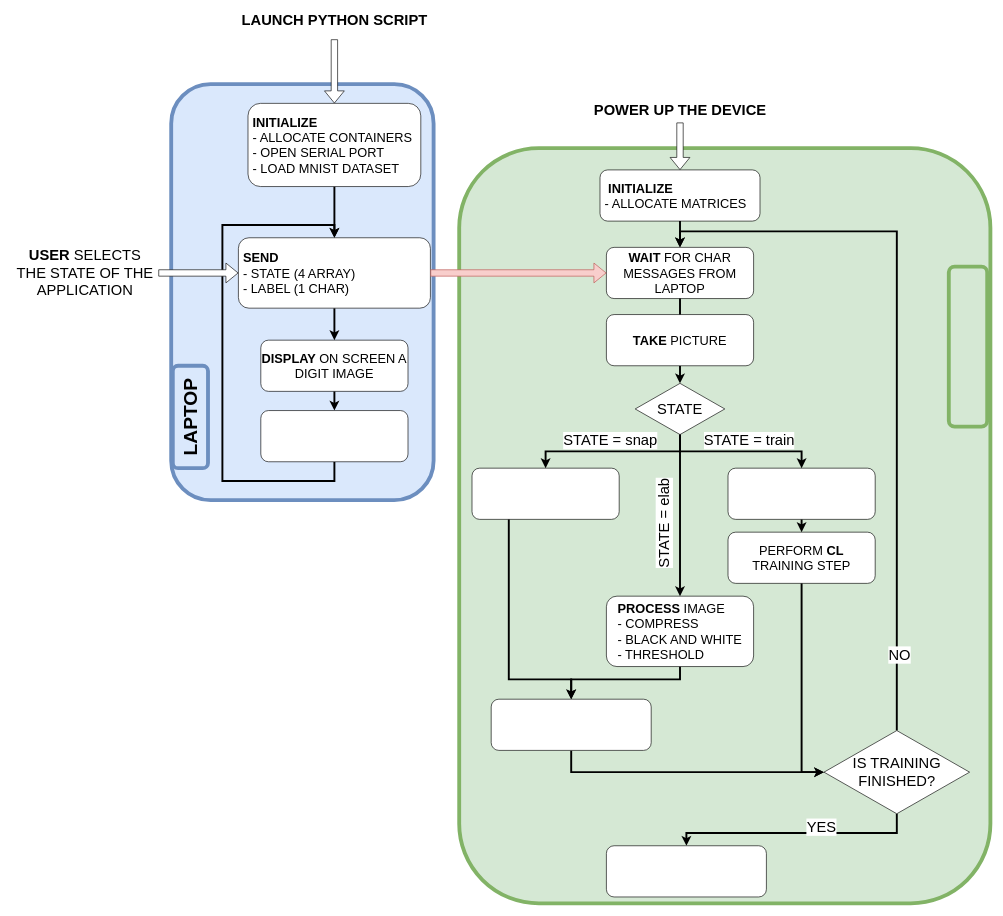
Some shapes in this 1003 by 916 pixel diagram are drawn without their labels. Each missing label, with the box of its shape:
COMPRESS IMAGE: (471, 468, 619, 519)
OPEN MV: (947, 264, 989, 428)
PERFORM INFERENCE WITH FROZEN MODEL: (727, 468, 875, 519)
SAVE RESULTS IN SD CARD: (606, 845, 766, 897)
SEND IMAGE TO LATOP: (491, 699, 651, 750)
WAIT 150 ms (for sync): (260, 410, 408, 462)
